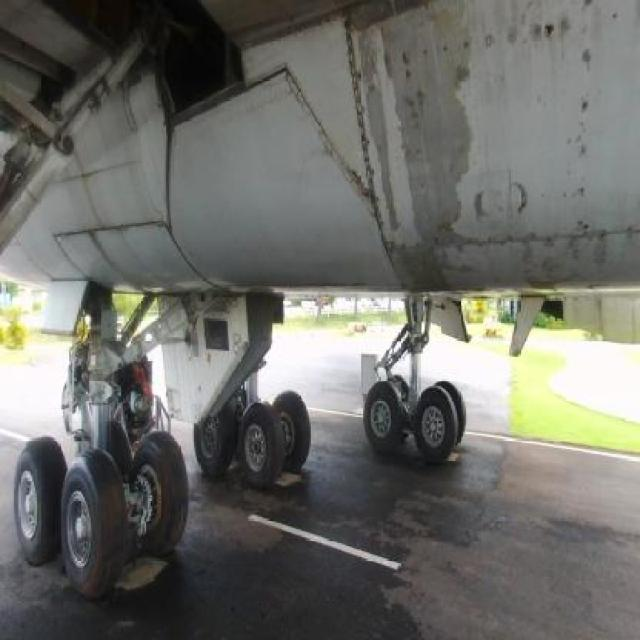Missing-Rivet: (402, 18, 570, 58), (432, 227, 634, 255), (574, 1, 598, 234)
Scartch: (354, 2, 494, 308), (497, 234, 615, 311), (472, 162, 539, 230), (499, 5, 579, 49), (578, 44, 592, 128)
